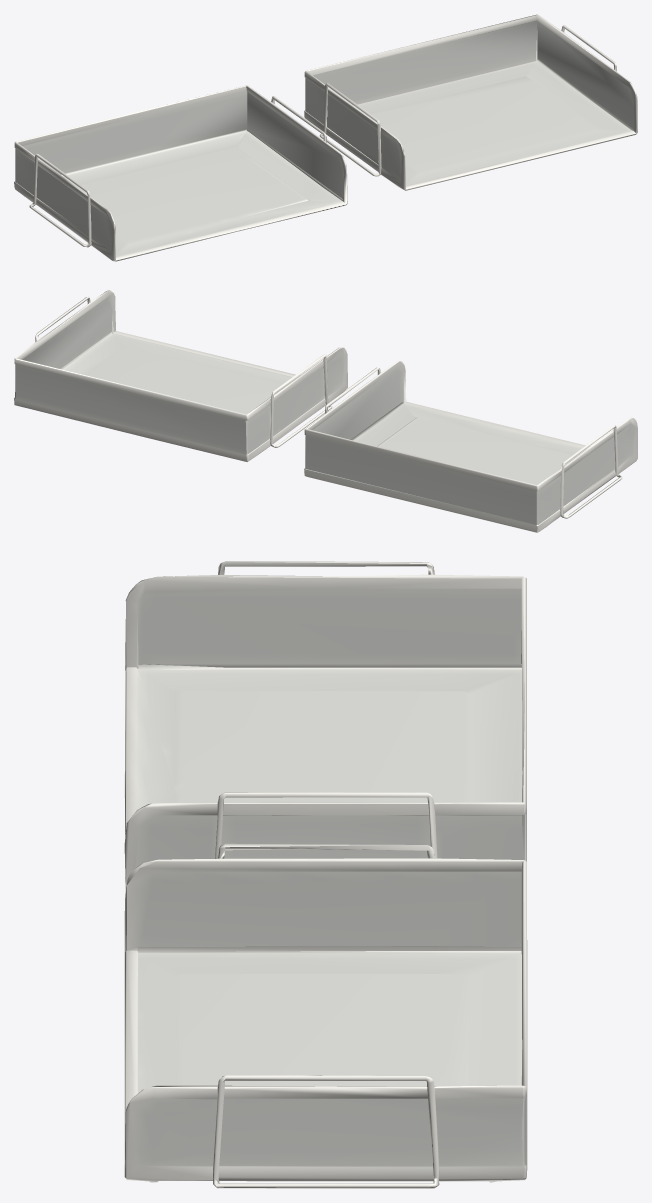
Rendered from 06 - DRÖNJÖNS Letter tray - white.glb.
3 views of the same model, one above another, from view 1: azimuth 30°, elevation 25°; view 2: azimuth 150°, elevation 25°; view 3: azimuth 270°, elevation 25° (orthographic). The views are drawn at different scales.
Visible parts, largest first — view 1: ProcessedMeshNode; view 2: ProcessedMeshNode; view 3: ProcessedMeshNode.
Part boxes in pixels (box(x1,y1,x2,y2)): ProcessedMeshNode: box(14, 14, 637, 261); ProcessedMeshNode: box(14, 290, 637, 532); ProcessedMeshNode: box(124, 561, 527, 1188).
Bounding box in the file's own units: 0.7322 × 0.072 × 0.2367.
Materials: 1 (1 with a texture image).
